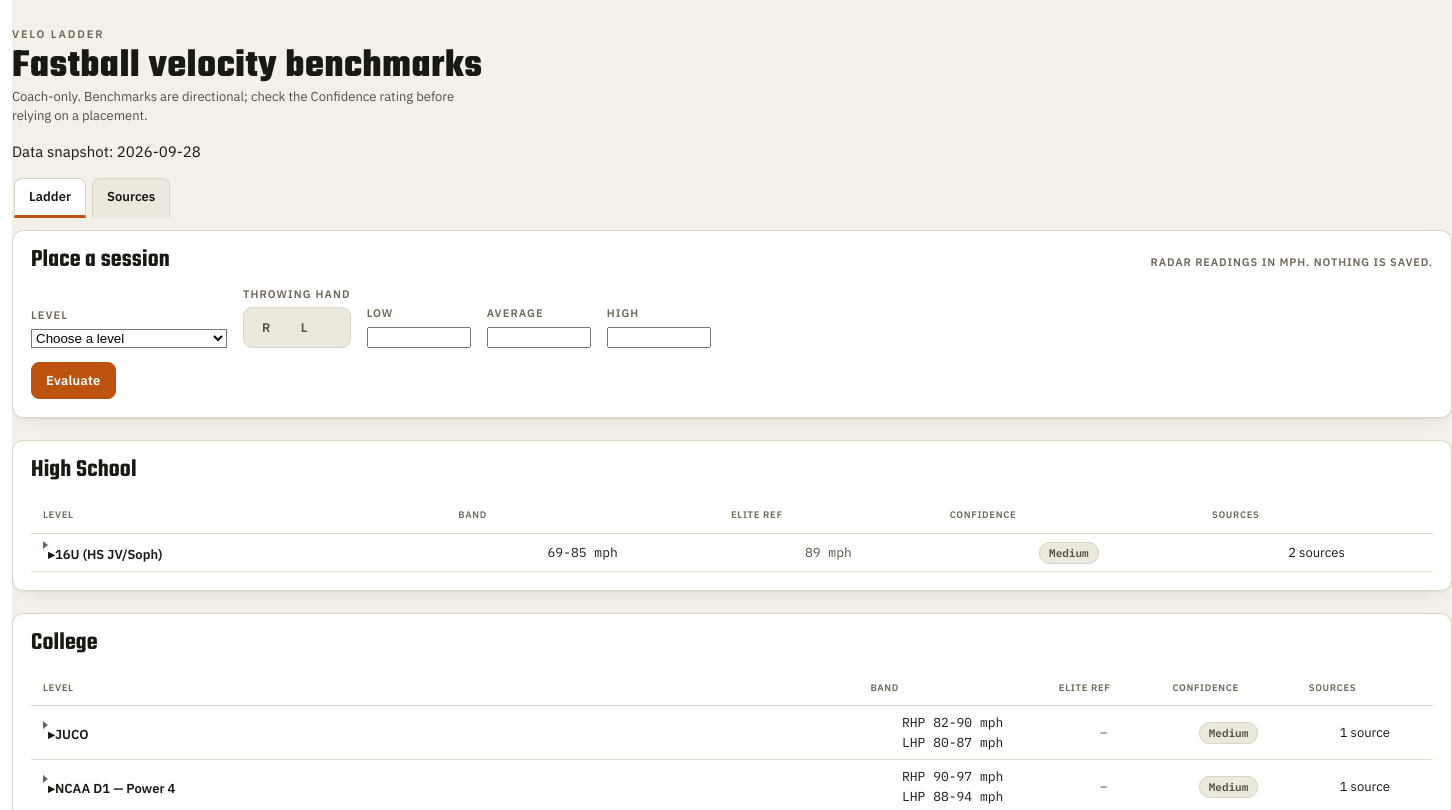
Test: a peak below the average is refused with a message, not a placement
The width and height of the screenshot is (1452, 810).
Select "16U (HS JV/Soph)" in the dropdown labelled "Level". click: point(129, 338)
box: [31,329,227,348]
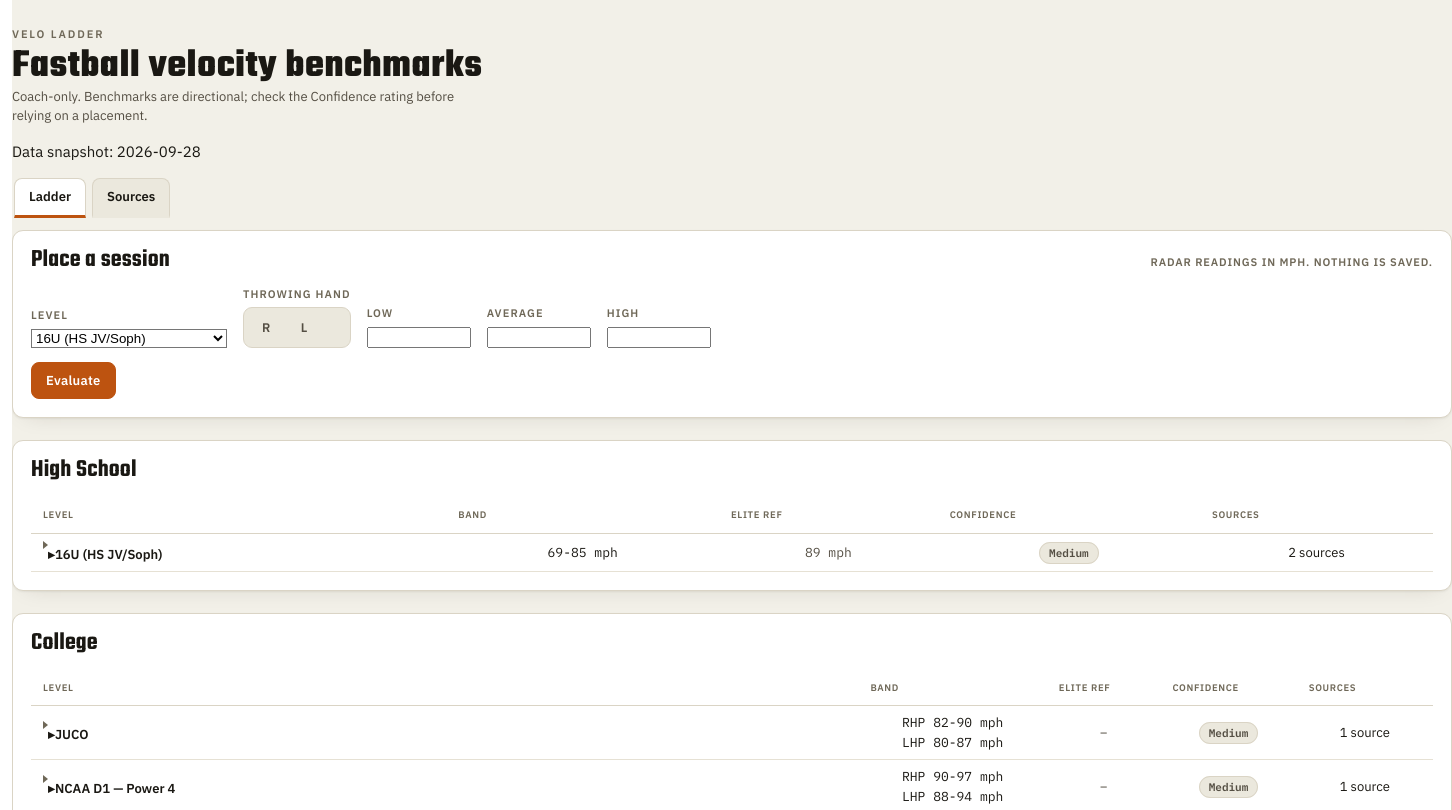
Type "74" into the number field labelled "Low". click: point(419, 337)
box: [367,327,471,348]
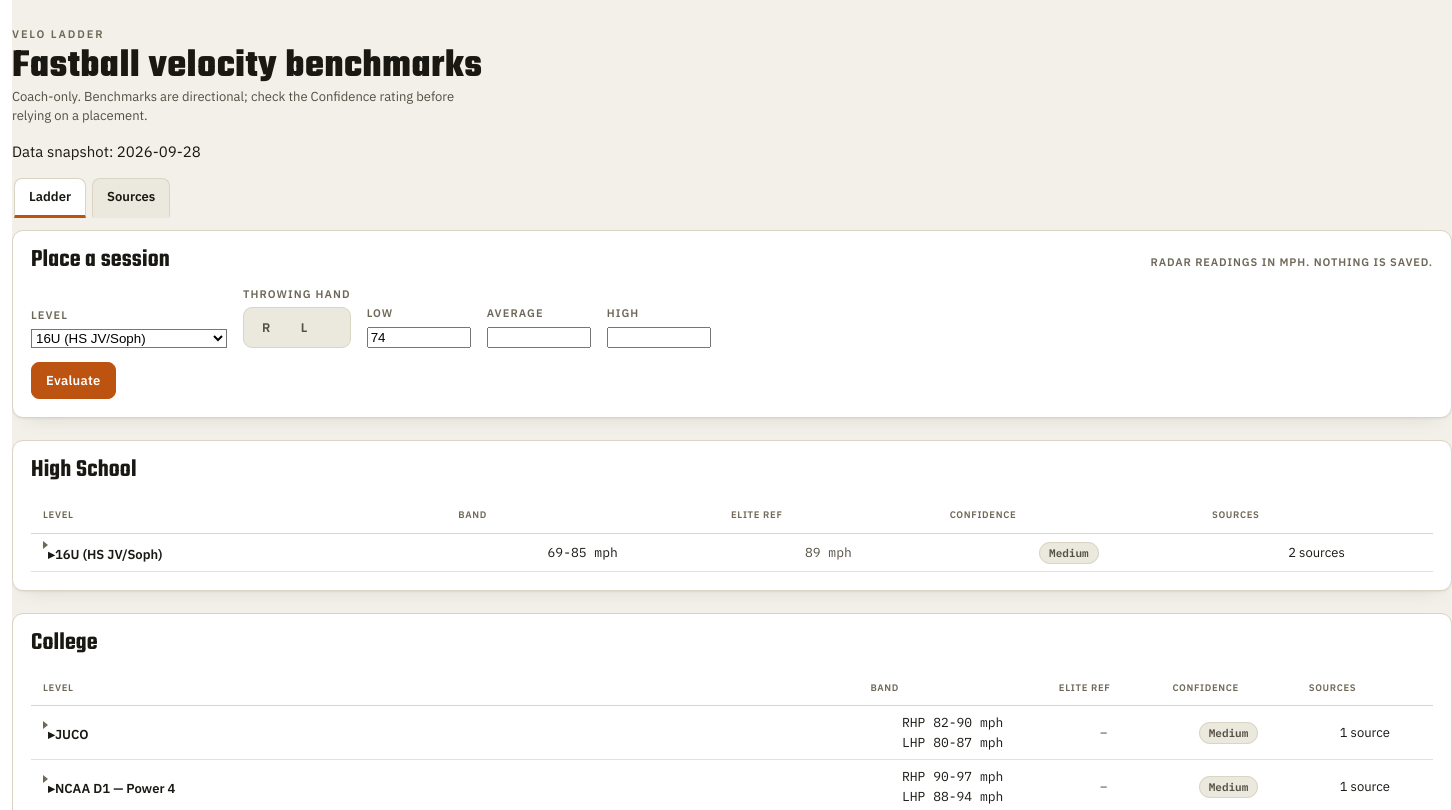
Type "79" into the number field labelled "Average". click: point(539, 337)
box: [487,327,591,348]
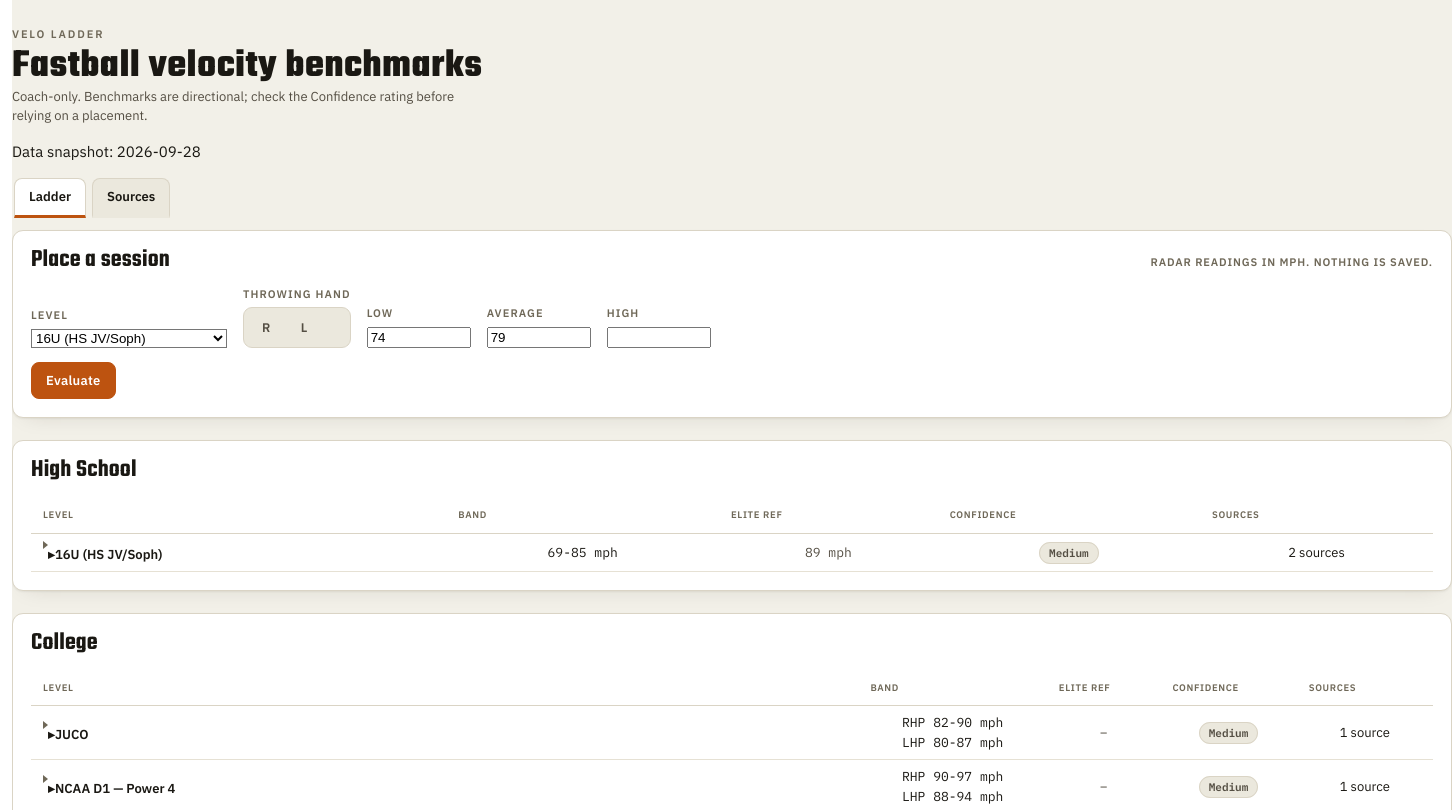
Type "77" into the number field labelled "High". click: point(659, 337)
box: [607,327,711,348]
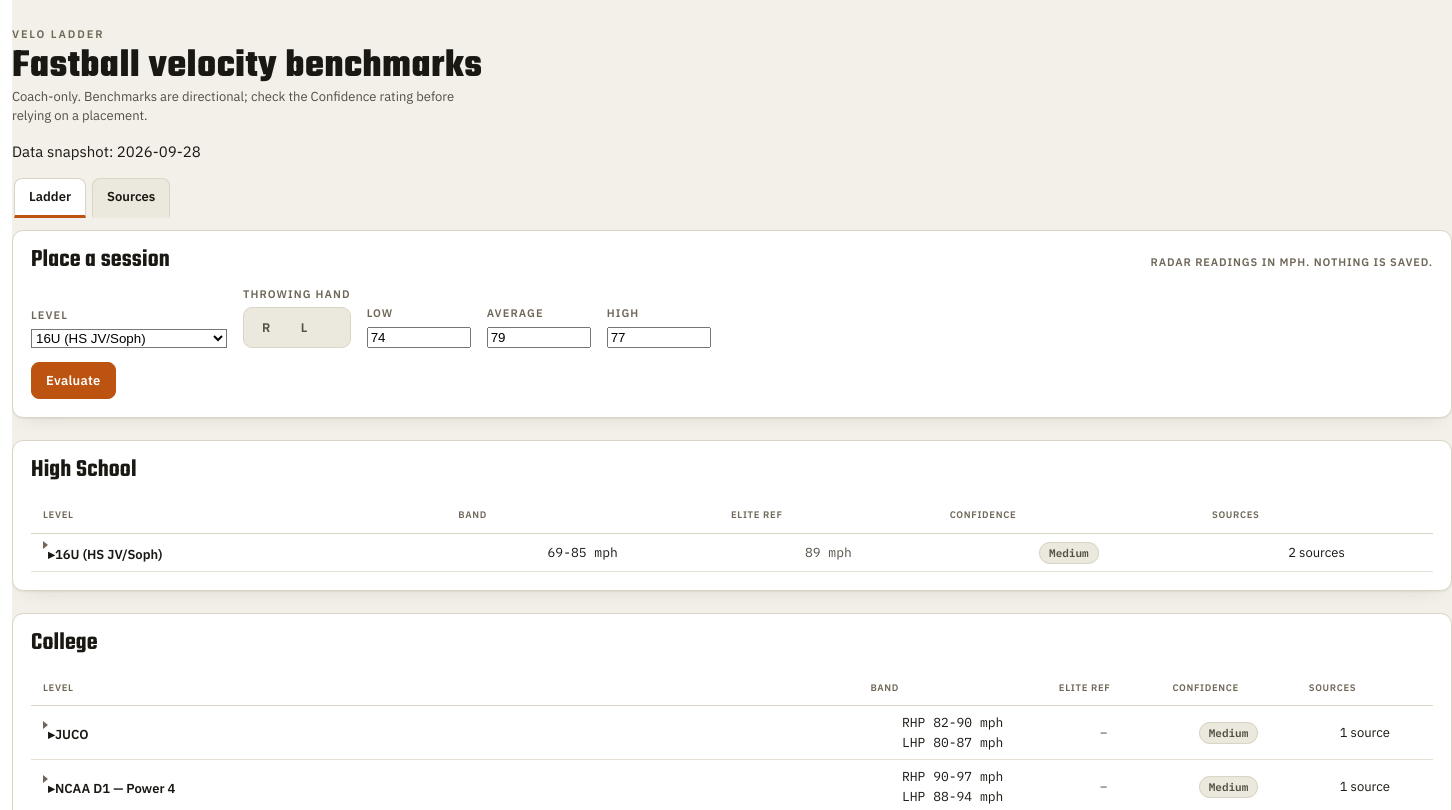
Click the button "Evaluate". click: point(73, 381)
box: [31,362,116,399]
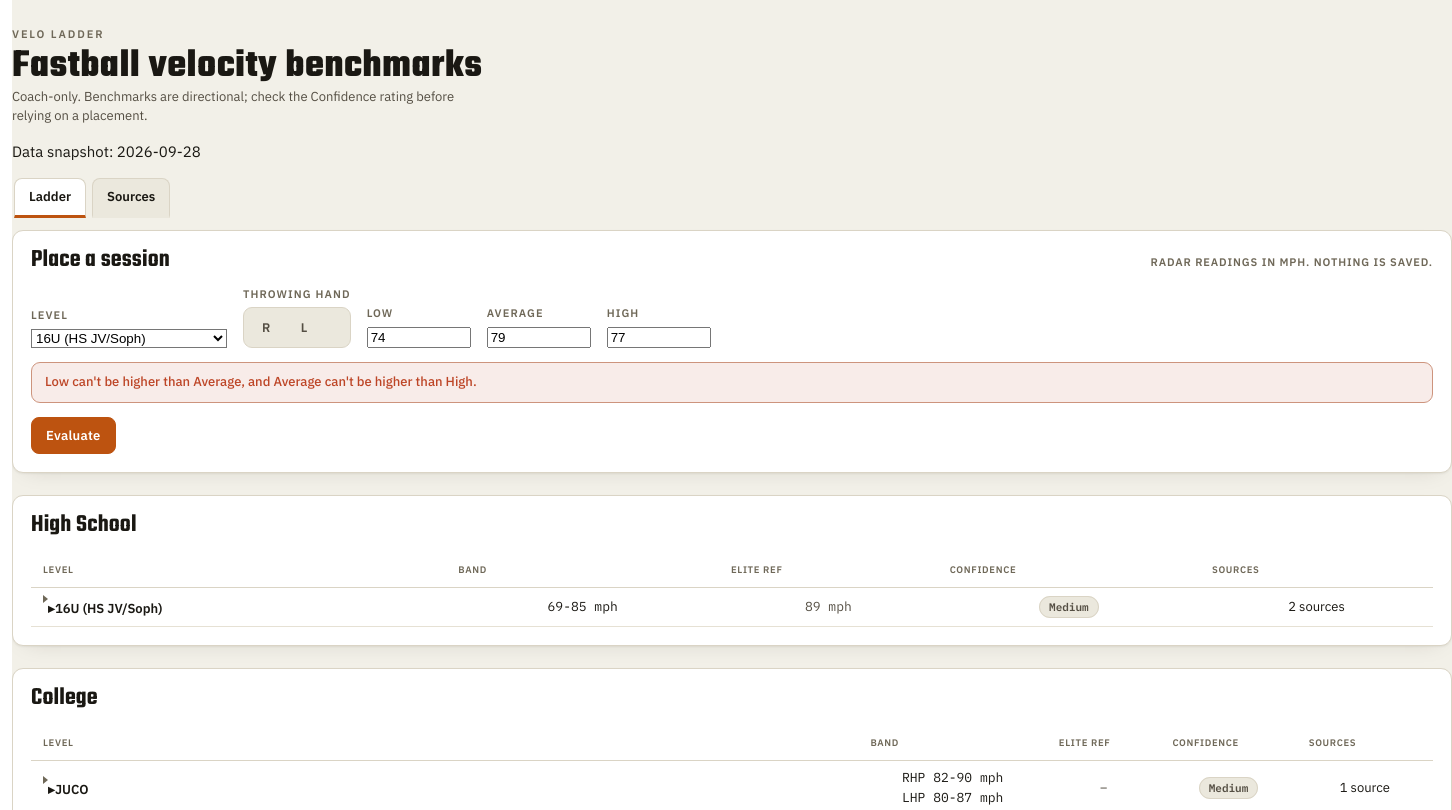
Check: the message reads "Low can't be higher than Average, and Average can't be higher than High.", box [45,373,477,390]
